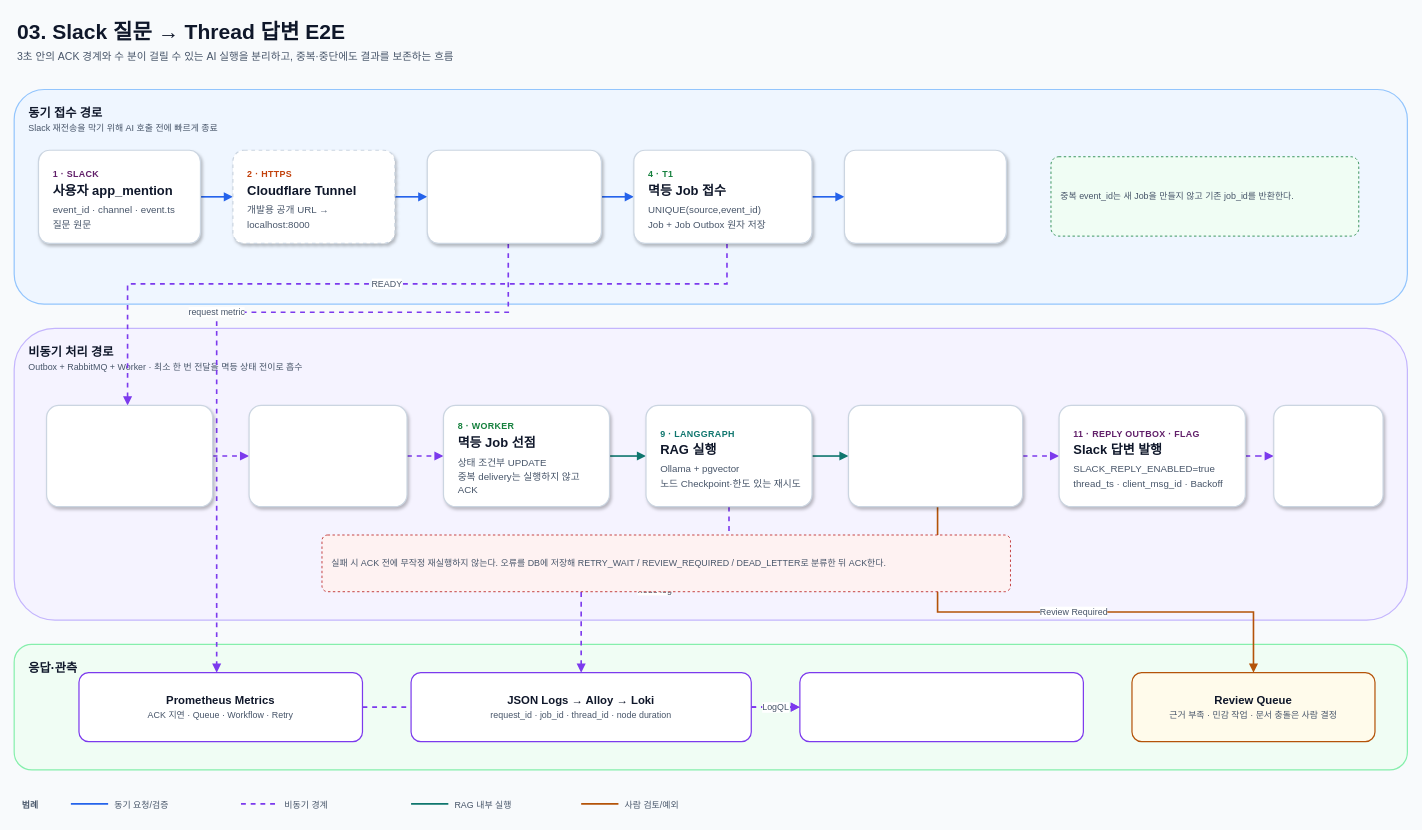
This 1422x830 diagram has some shape labels left out. The centre of each missing label's shape, as x and y in pixels:
10 · T4 결과 원자 확정 Completed + Citation + Reply Outbox 또는 Review Required: the point at 936,457
12 · SLACK THREAD 사용자에게 답변 원본 메시지와 같은 Thread: the point at 1329,457
3 · FASTAPI 서명·이벤트 검증 Raw body HMAC + Timestamp Bot/subtype/빈 질문 제외: the point at 515,197
5 · ACK 즉시 2xx 반환 LLM·Embedding·Slack 발신 없음: the point at 926,197
6 · OUTBOX Job 발행 SKIP LOCKED 임대 선점 Confirm 뒤 SENT/QUEUED: the point at 130,457
7 · RABBITMQ durable delivery Job Queue · prefetch=1 최소 한 번 전달: the point at 328,457
Grafana 지표와 로그를 한 화면에서 상관 분석: the point at 941,707
